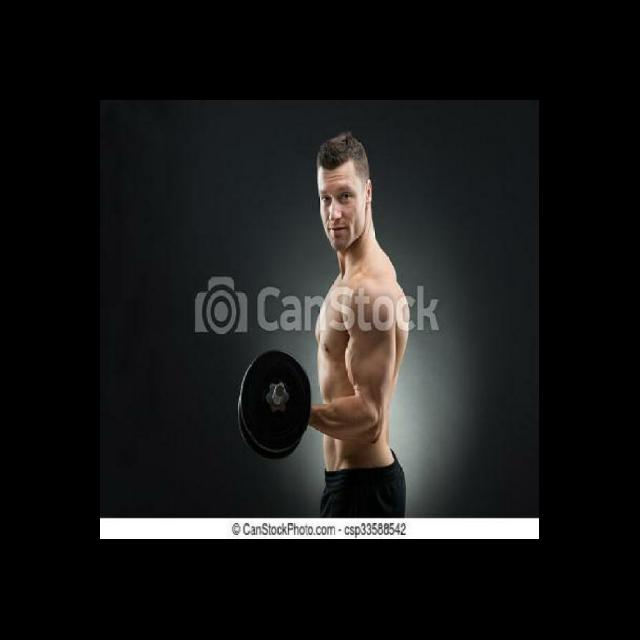barbell: (235, 342, 316, 458)
